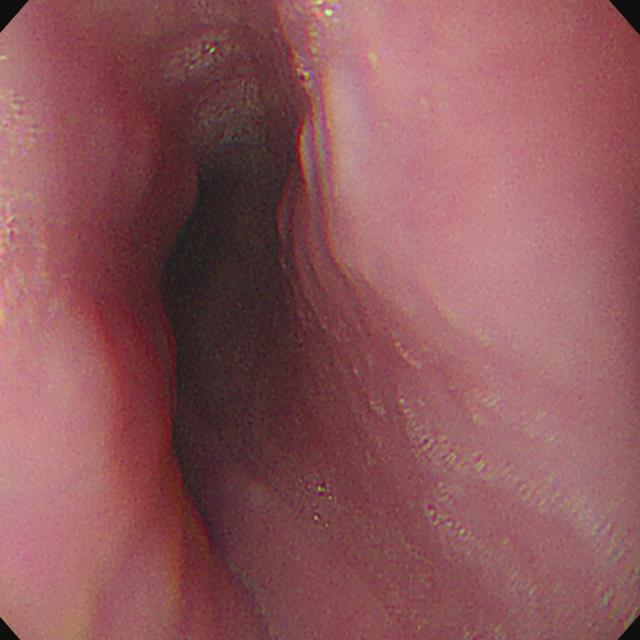E: (146, 142, 285, 533)
